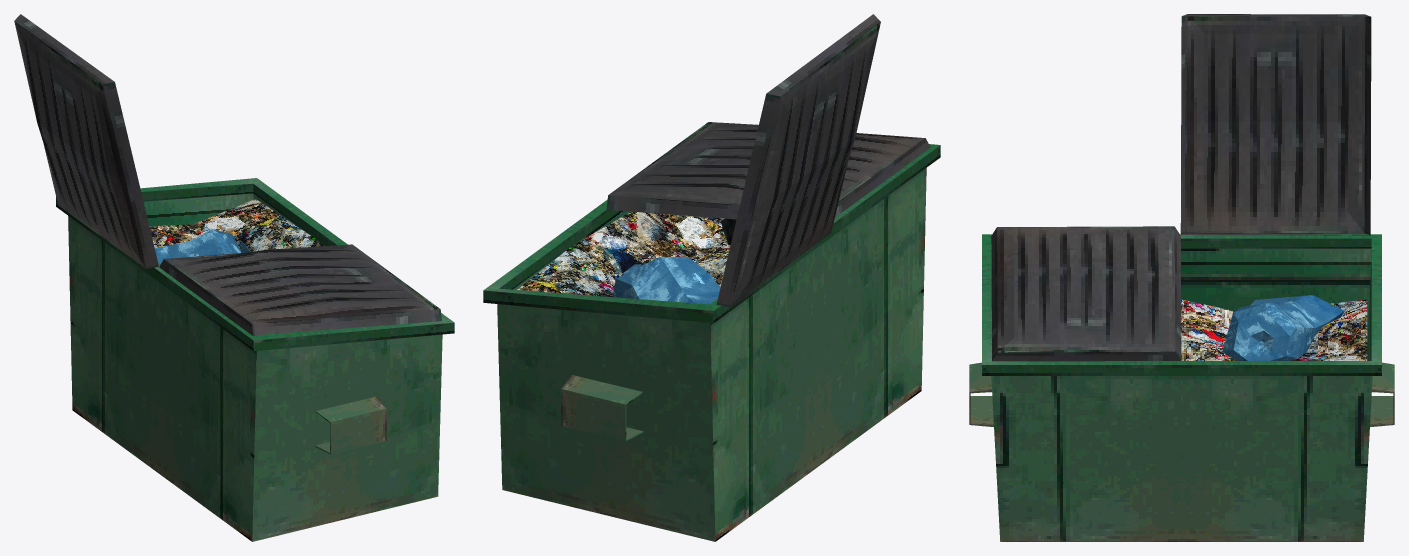
The model's file is dumpster_diagonal_full_open.glb.
3 views of the same model, side by side, from view 1: azimuth 30°, elevation 25°; view 2: azimuth 150°, elevation 25°; view 3: azimuth 270°, elevation 25° (orthographic). The views are drawn at different scales.
Visible parts, largest first — view 1: dumpster_diagonal_full_open; view 2: dumpster_diagonal_full_open; view 3: dumpster_diagonal_full_open.
Part boxes in pixels (x1,y1,x2,y2): dumpster_diagonal_full_open: (14,14,454,541); dumpster_diagonal_full_open: (483,14,940,541); dumpster_diagonal_full_open: (969,14,1394,541).
Bounding box in the file's own units: 2.53 × 3.91 × 3.67.
3 materials, 3 textured.
